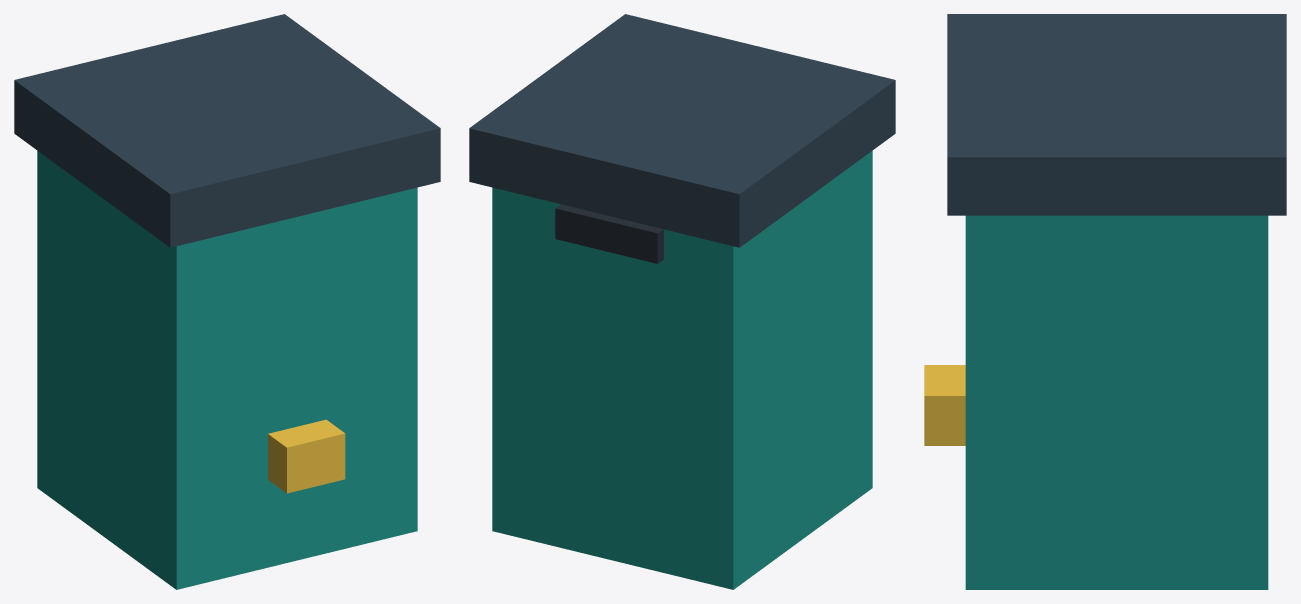
3 views of the same model, side by side, from view 1: azimuth 30°, elevation 25°; view 2: azimuth 150°, elevation 25°; view 3: azimuth 270°, elevation 25° (orthographic). The views are drawn at different scales.
Visible parts, largest first — view 1: bin-body, lid, recycle-mark; view 2: bin-body, lid, slot; view 3: bin-body, lid, recycle-mark.
Part boxes in pixels (x1,y1,x2,y2): bin-body: (37,151,417,589); lid: (14,14,440,247); recycle-mark: (268,419,345,493); bin-body: (492,151,872,589); lid: (469,14,895,247); slot: (555,204,663,263); bin-body: (965,215,1268,589); lid: (947,14,1286,215); recycle-mark: (924,365,965,445).
Bounding box in the file's own units: 0.74 × 1.06 × 0.79.
